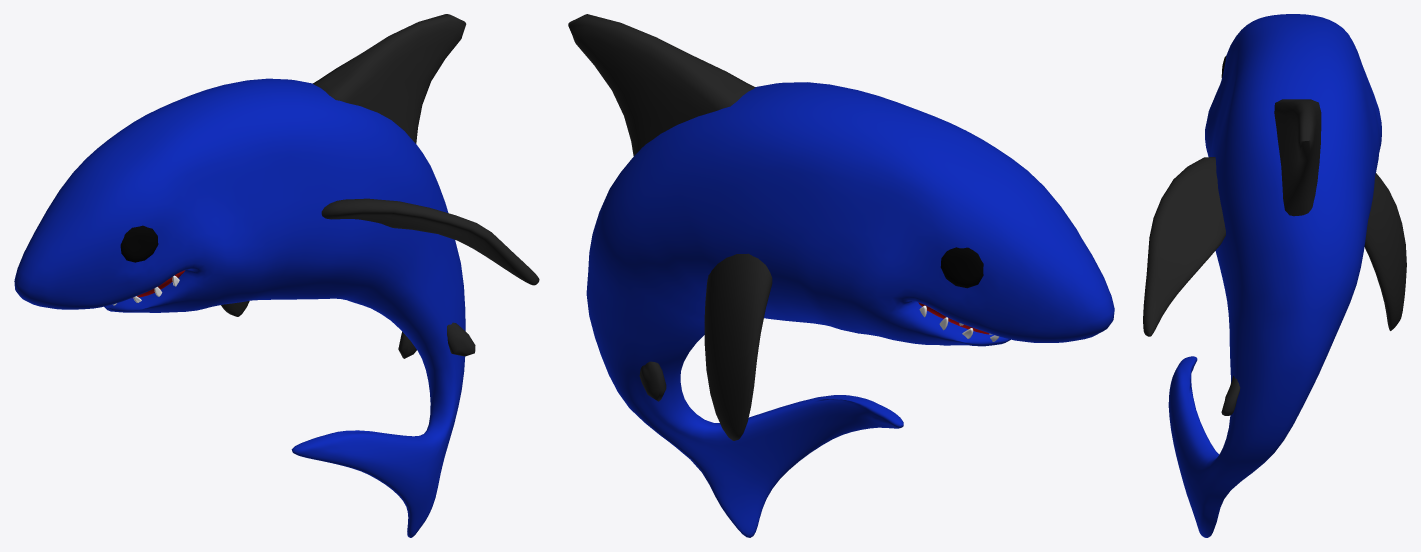
Rendered from shark FBX.FBX.
3 renders of one model, left to right at view 1: azimuth 30°, elevation 25°; view 2: azimuth 150°, elevation 25°; view 3: azimuth 270°, elevation 25°, orthographic. The views are drawn at different scales.
Parts seen in each view (by area): view 1: shark1, S7, S5, S2, S6; view 2: shark1, S7, S5, S2, S6; view 3: shark1, S5, S7, S6.
Boxes of the visible parts, <box> form: shark1: <box>14,78,465,537</box>; S7: <box>313,14,466,143</box>; S5: <box>221,198,539,316</box>; S2: <box>120,225,158,262</box>; S6: <box>398,322,475,358</box>; shark1: <box>586,82,1114,537</box>; S7: <box>568,14,755,156</box>; S5: <box>704,253,772,440</box>; S2: <box>940,247,983,288</box>; S6: <box>639,361,666,401</box>; shark1: <box>1168,14,1381,537</box>; S5: <box>1143,157,1406,336</box>; S7: <box>1274,99,1321,216</box>; S6: <box>1221,375,1240,415</box>.
Size of the model in its own units: 18.87 by 18.31 by 9.59.
